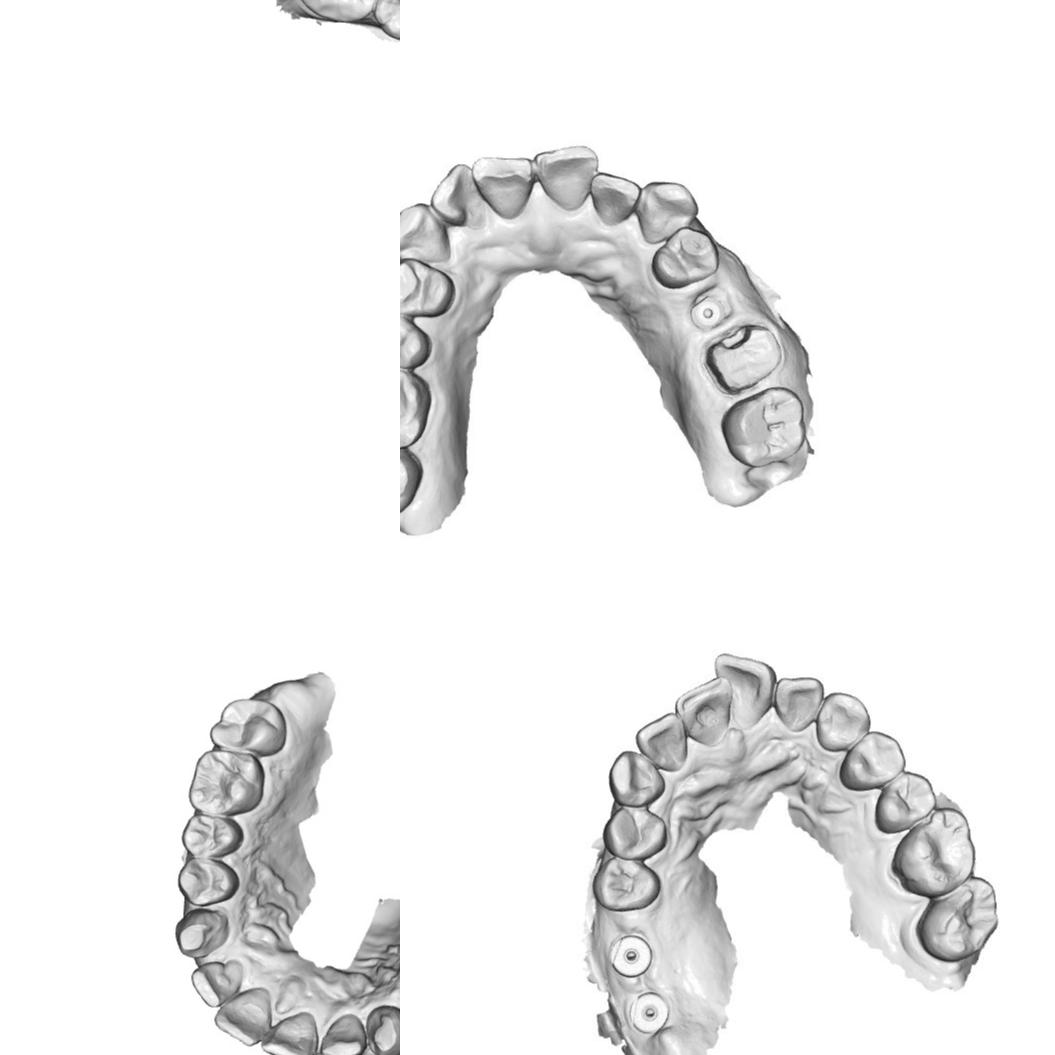canine: (635, 179, 697, 245), (811, 690, 870, 753), (605, 750, 667, 807), (173, 906, 231, 961), (400, 202, 450, 265), (363, 1003, 400, 1055)
crown: (702, 321, 785, 395)
implant: (605, 934, 659, 977), (627, 990, 669, 1033), (689, 290, 726, 330)
incisor: (712, 652, 771, 730), (532, 143, 597, 213), (212, 985, 276, 1048), (473, 155, 535, 218), (674, 676, 729, 747), (631, 711, 688, 773), (769, 675, 826, 733), (431, 162, 482, 223), (258, 1009, 320, 1055), (189, 959, 246, 1009), (591, 173, 642, 227), (318, 1012, 368, 1055)
molar: (891, 805, 976, 896), (916, 875, 999, 962), (720, 385, 805, 469), (186, 748, 267, 818), (206, 696, 288, 758), (400, 362, 430, 451), (297, 0, 381, 23), (400, 439, 422, 520), (371, 0, 400, 47)
premolar: (650, 224, 722, 290), (838, 728, 907, 792), (597, 805, 669, 862), (873, 769, 936, 831), (591, 858, 661, 913), (175, 855, 242, 909), (179, 809, 246, 860), (400, 259, 455, 319), (400, 310, 433, 370)
